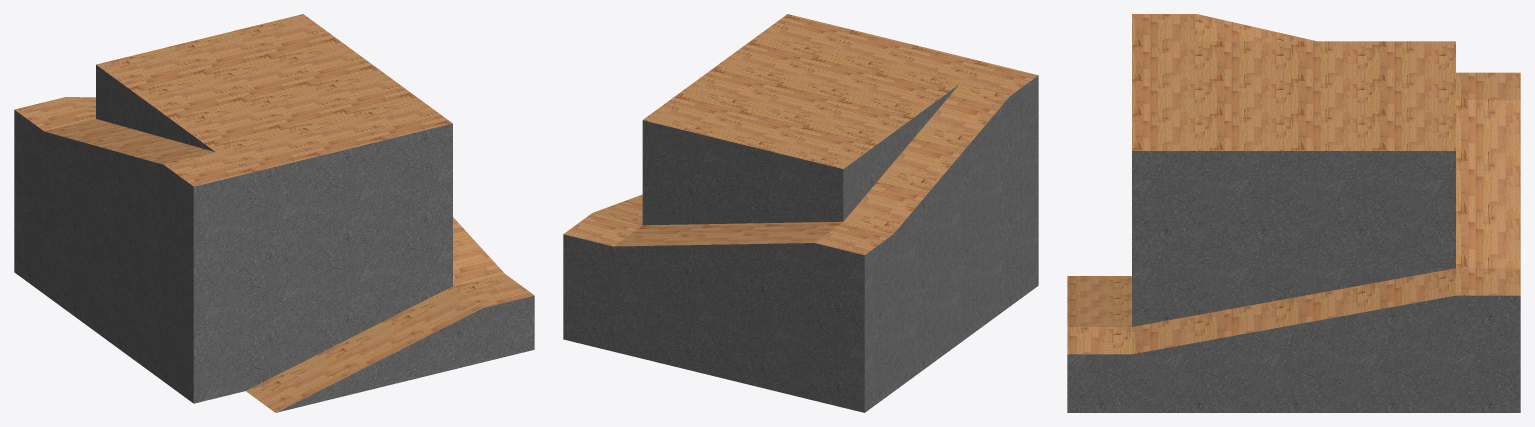
The model's file is tower.fbx.
3 views of the same model, side by side, from view 1: azimuth 30°, elevation 25°; view 2: azimuth 150°, elevation 25°; view 3: azimuth 270°, elevation 25° (orthographic). The views are drawn at different scales.
Visible parts, largest first — view 1: tower; view 2: tower; view 3: tower.
Part boxes in pixels (x1,y1,x2,y2): tower: (14,14,534,412); tower: (563,14,1038,412); tower: (1067,14,1520,412).
Size of the model in its own units: 45 by 30 by 52.5.
